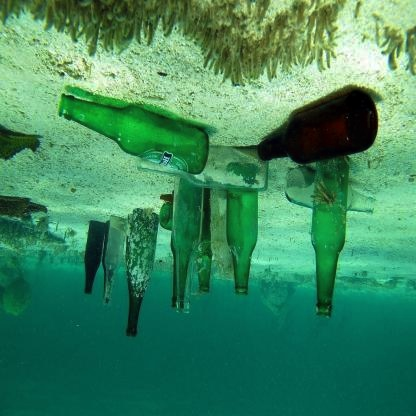gbottle: (58, 92, 210, 174), (258, 90, 379, 165), (137, 144, 268, 194), (313, 156, 347, 317), (286, 166, 376, 218), (127, 210, 159, 339), (227, 163, 258, 296), (172, 171, 198, 313), (211, 181, 240, 280), (104, 213, 128, 309), (195, 188, 216, 292), (83, 220, 104, 296)
